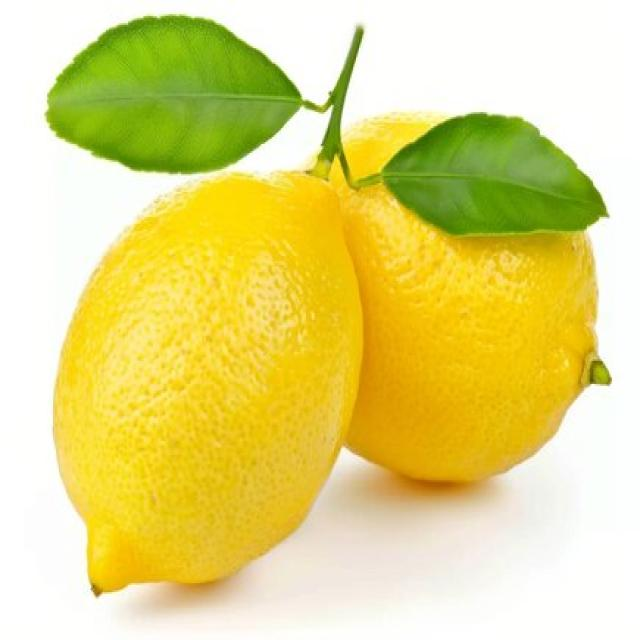Lemon: (51, 167, 365, 596), (327, 109, 610, 484)
